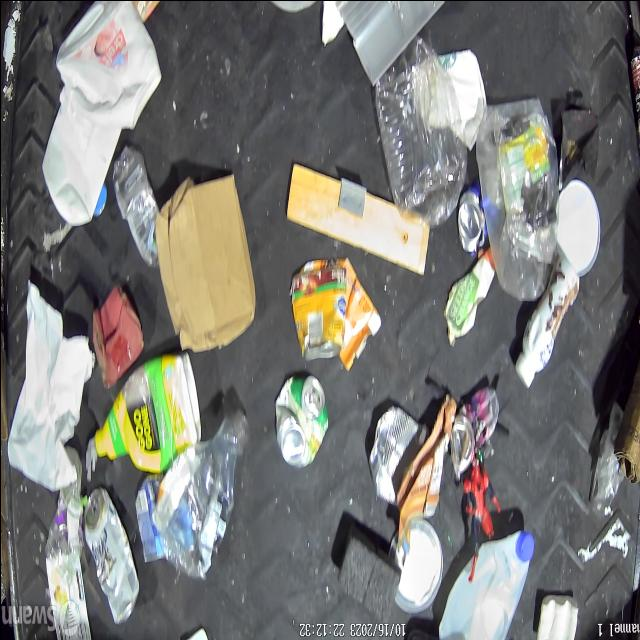can: (83, 486, 139, 624), (368, 406, 428, 506), (290, 262, 347, 362), (272, 374, 330, 468), (448, 384, 498, 474), (455, 182, 484, 257)
milk_jug: (55, 0, 162, 130), (440, 527, 534, 640), (40, 102, 122, 226)
non_white_jug: (92, 350, 198, 474)
plastic_bottle: (145, 411, 246, 581), (111, 143, 159, 270), (586, 398, 624, 518), (628, 47, 640, 193)
